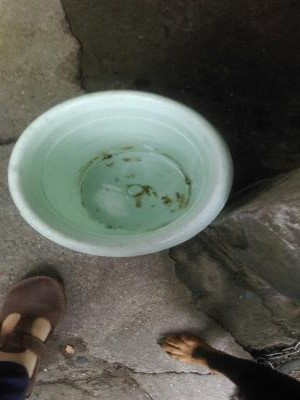bowl: (4, 87, 236, 261)
